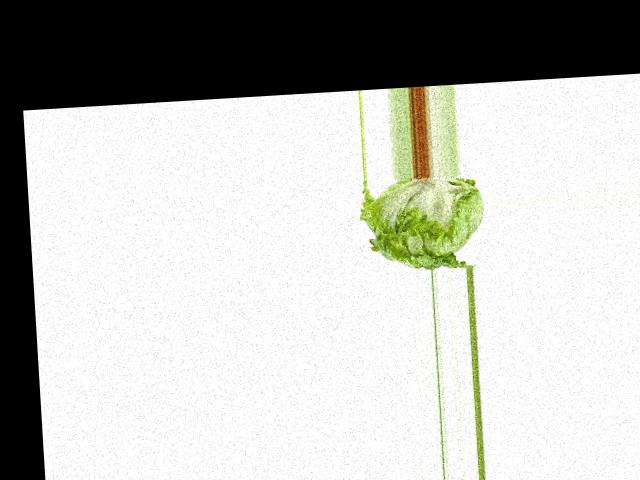lettuce: (353, 172, 490, 273)
